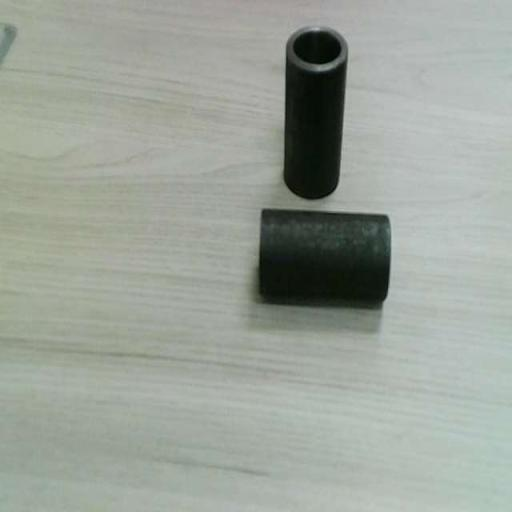peca: (259, 209, 390, 301), (285, 27, 347, 197)
